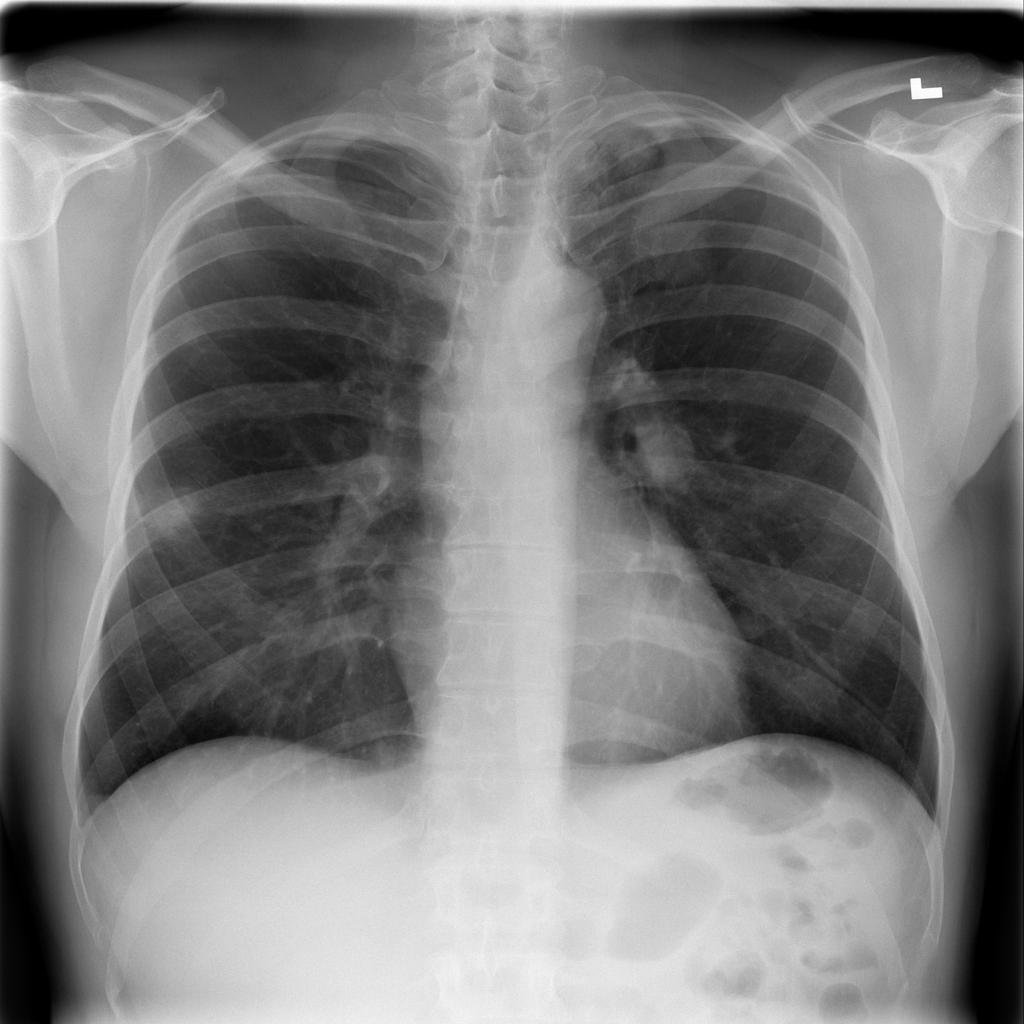nodule: (121, 451, 231, 562), (614, 392, 719, 502)
